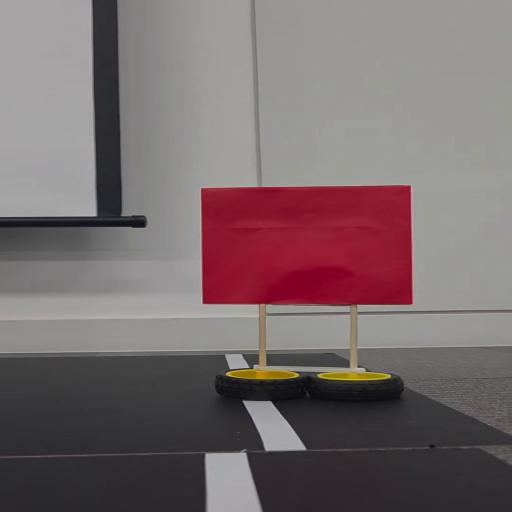Sign_A: (193, 181, 447, 416)
